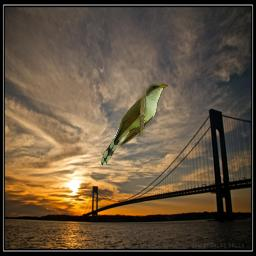Cuckoo: (101, 83, 168, 165)
